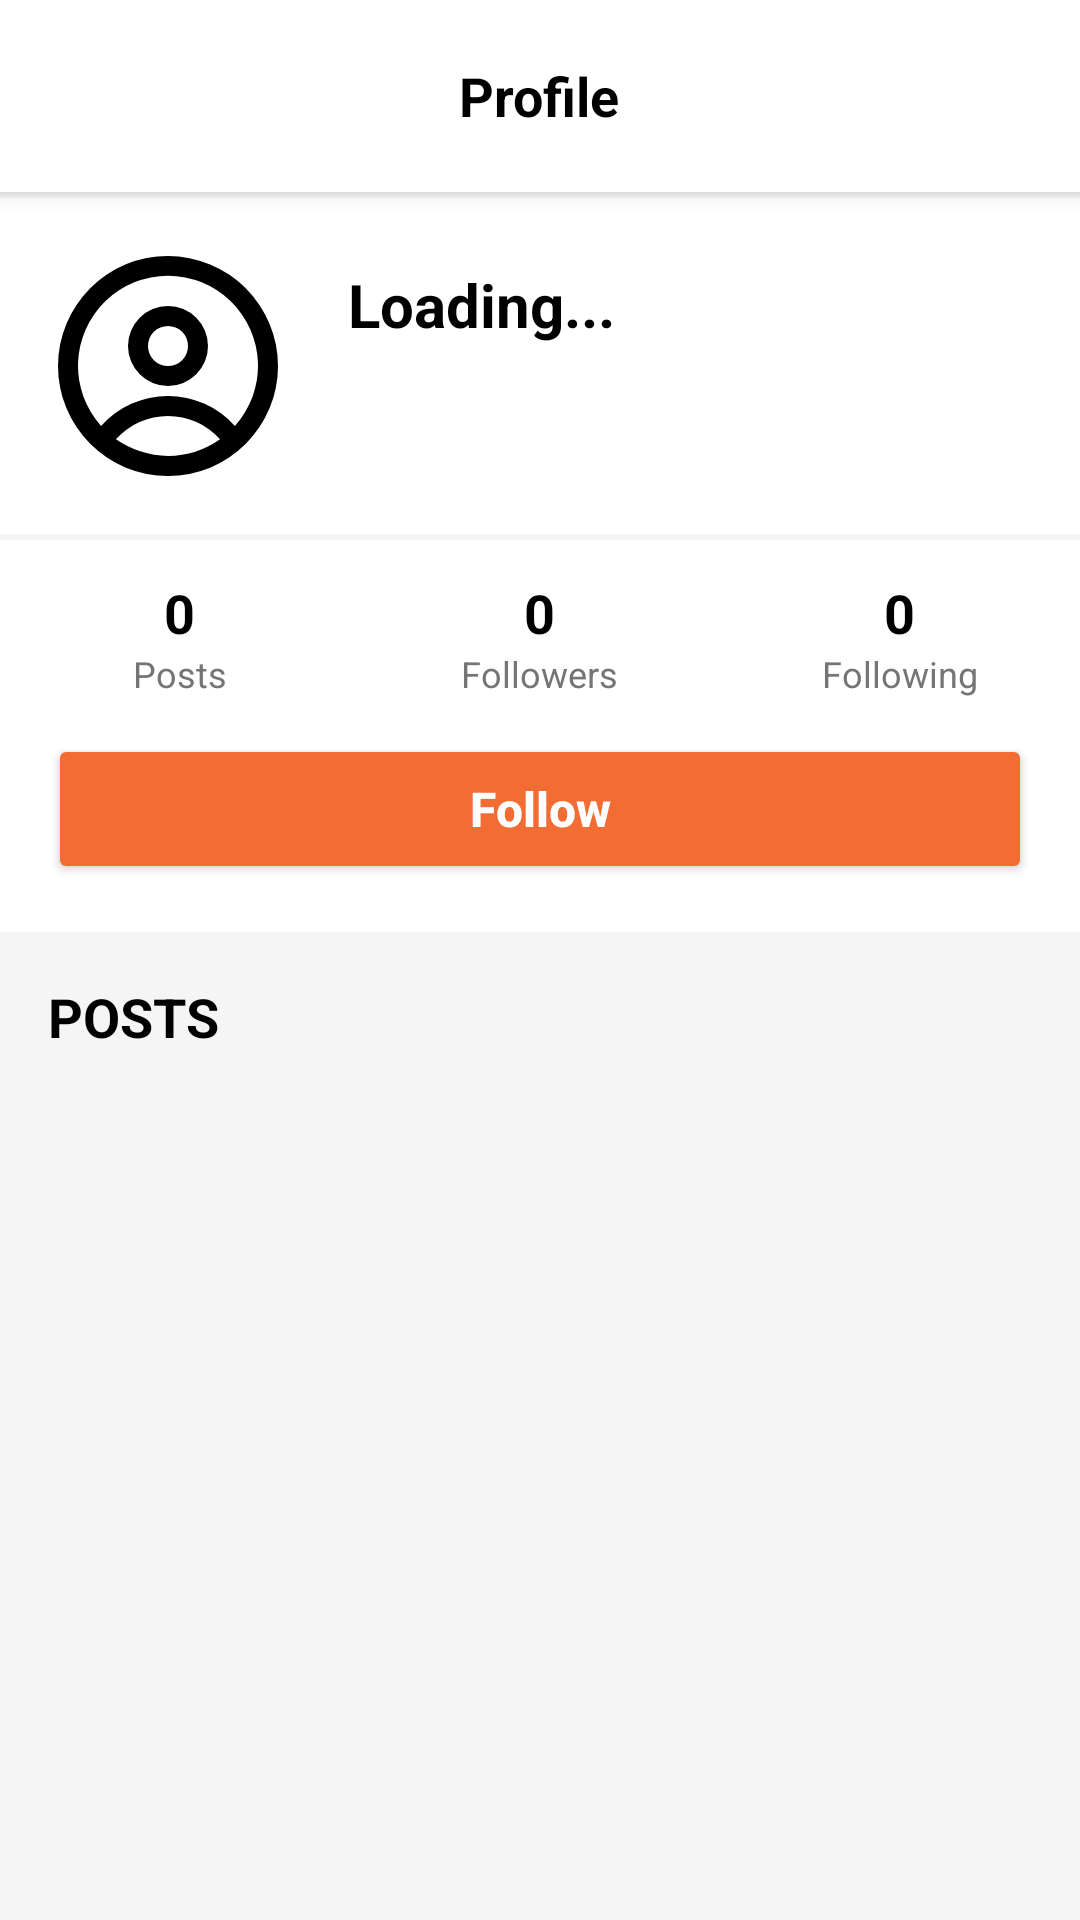

Icons on this 1080w x 1920h Android screen, each with its box as region(x1, y1, x2, y2):
user: region(58, 256, 278, 476)
